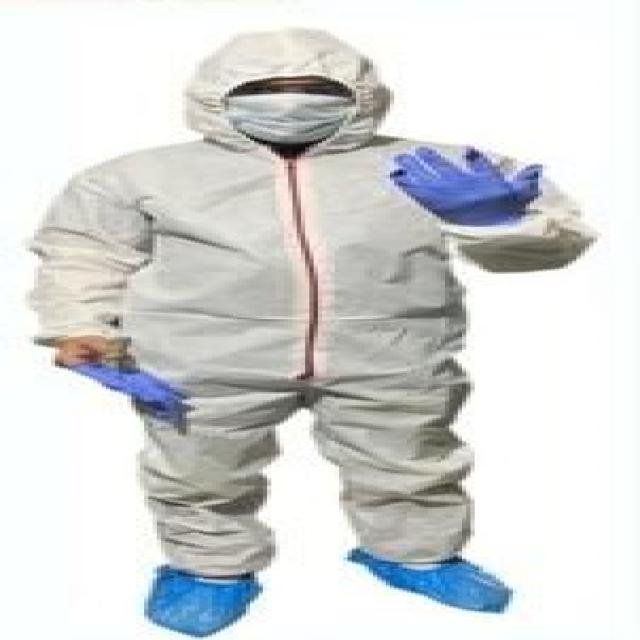Coverall: (22, 26, 611, 640)
Gloves: (382, 147, 560, 227)
Mask: (208, 91, 360, 144)
